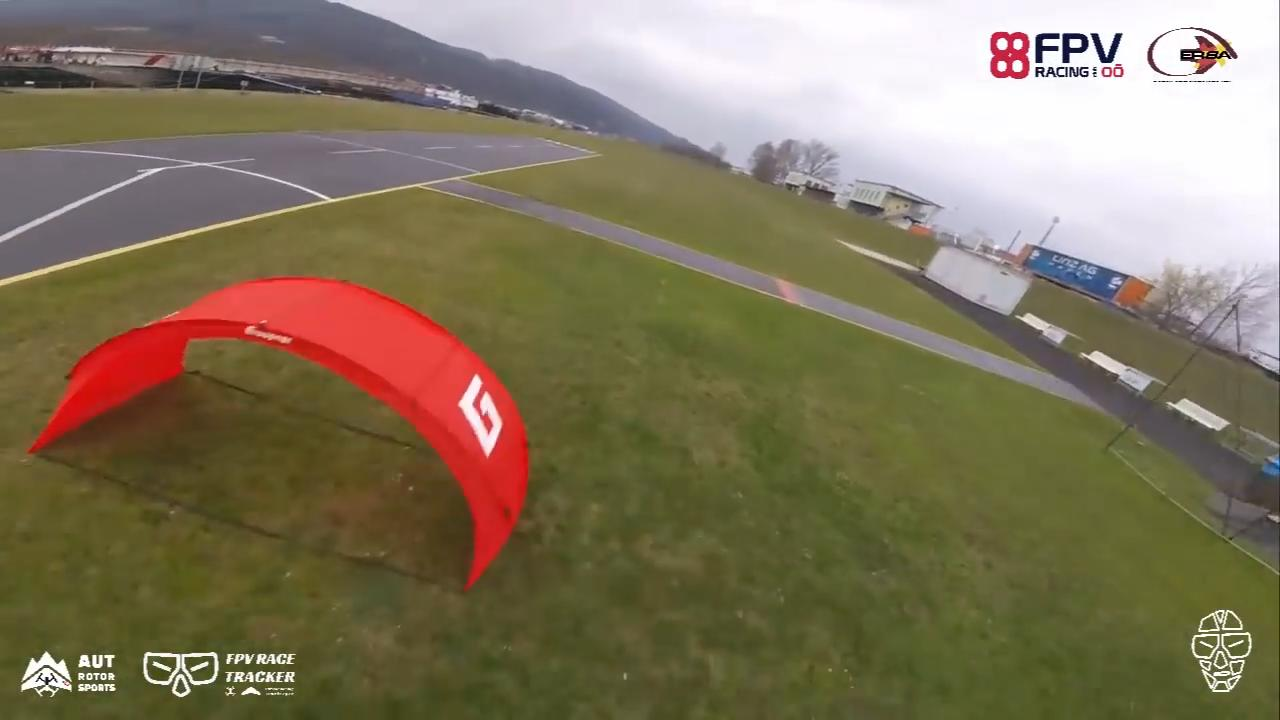gate: (19, 271, 535, 598)
